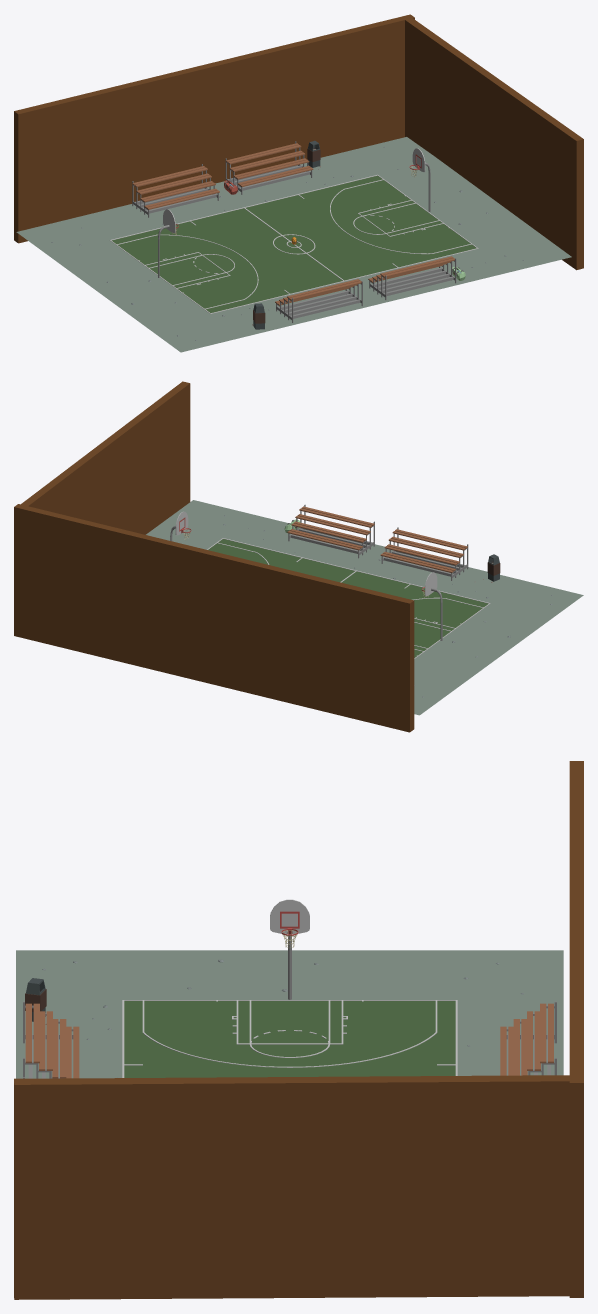
File: educacionFisica.glb
The picture shows the model from 3 angles, top to bottom: view 1: azimuth 30°, elevation 25°; view 2: azimuth 150°, elevation 25°; view 3: azimuth 270°, elevation 25°; orthographic projection. The views are drawn at different scales.
Parts seen in each view (by area): view 1: Basketball Terrain_19, Cube, Cube.001; view 2: Cube, Basketball Terrain_19, Cube.001; view 3: Cube.001, Basketball Terrain_19, Cube.
Part boxes in pixels (x1,y1,x2,y2): Basketball Terrain_19: (16, 137, 571, 352); Cube: (14, 14, 414, 243); Cube.001: (405, 18, 583, 270); Cube: (14, 504, 414, 732); Basketball Terrain_19: (146, 500, 583, 715); Cube.001: (21, 381, 190, 534); Cube.001: (14, 1075, 572, 1299); Basketball Terrain_19: (16, 899, 563, 1078); Cube: (569, 761, 583, 1297).
Bounding box in the file's own units: 24.07 × 7.38 × 17.73.
